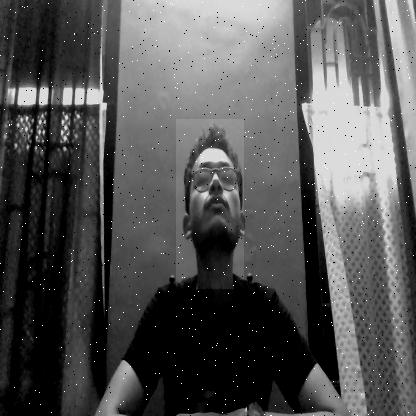Distracted: (176, 119, 244, 289)
